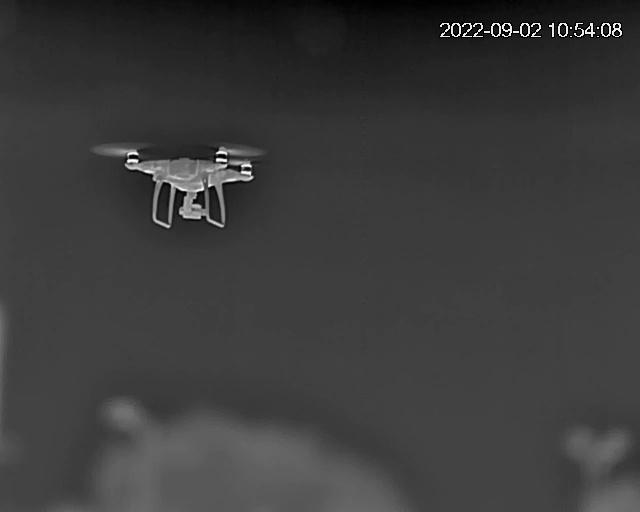DJI-Phantom: (89, 139, 267, 229)
